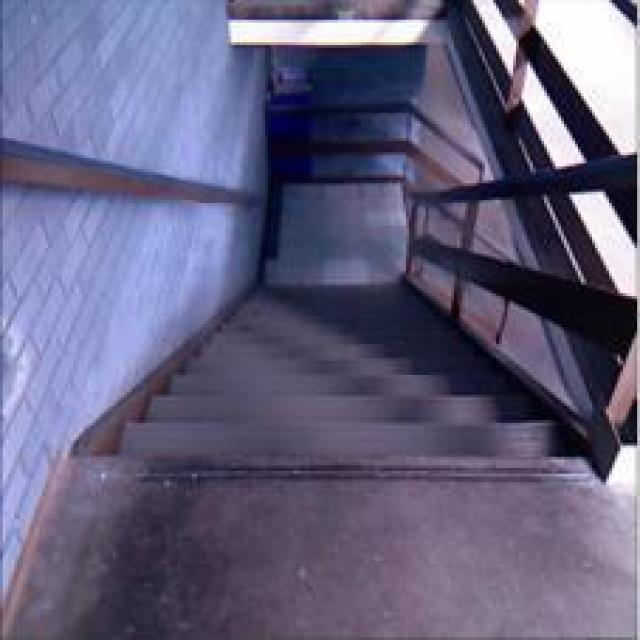downstair: (44, 368, 619, 571)
